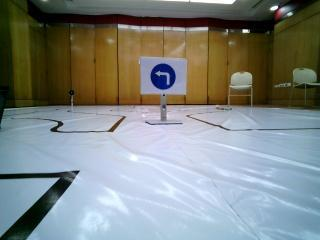left: (140, 63, 183, 91)
